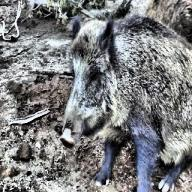boar: (58, 13, 192, 191)
